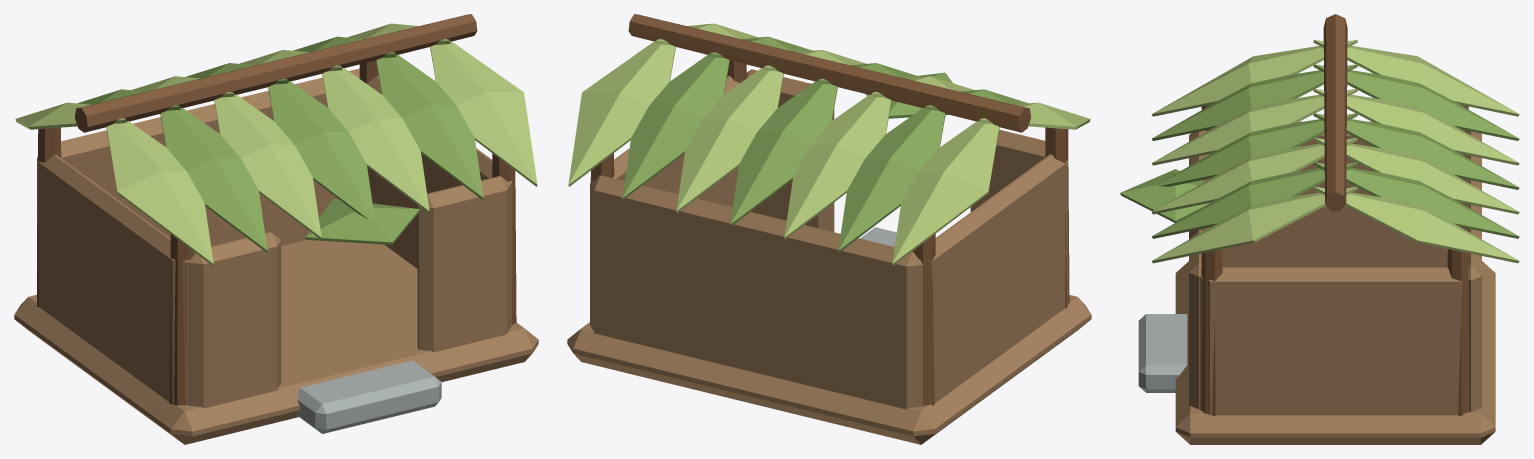
File: CC_Dormitory.fbx
3 views of the same model, side by side, from view 1: azimuth 30°, elevation 25°; view 2: azimuth 150°, elevation 25°; view 3: azimuth 270°, elevation 25° (orthographic). The views are drawn at different scales.
Parts seen in each view (by area): view 1: Raised floor, Side wall, Front wall.001, Front wall, Roof ridge, Thatched leaf, Thatched leaf.006, Back wall, Thatched leaf.005, Thatched leaf.004, Thatched leaf.002, Thatched leaf.001 (+11 smaller); view 2: Back wall, Side wall, Raised floor, Roof ridge, Thatched leaf.007, Thatched leaf.013, Thatched leaf.012, Thatched leaf.011, Thatched leaf.010, Thatched leaf.009, Thatched leaf.008, Front wall (+9 smaller); view 3: Side wall.001, Raised floor, Side wall, Roof ridge, Thatched leaf.013, Thatched leaf.006, Thatched leaf.007, Thatched leaf, Doorstep, Thatched leaf.012, Thatched leaf.005, Thatched leaf.011 (+12 smaller).
Boxes of the visible parts, x1=… form: Raised floor: x1=14, y1=240, x2=538, y2=444; Side wall: x1=37, y1=154, x2=189, y2=405; Front wall.001: x1=417, y1=176, x2=510, y2=352; Front wall: x1=188, y1=232, x2=281, y2=408; Roof ridge: x1=74, y1=14, x2=477, y2=132; Thatched leaf: x1=106, y1=121, x2=213, y2=265; Thatched leaf.006: x1=430, y1=41, x2=537, y2=186; Back wall: x1=37, y1=68, x2=359, y2=267; Thatched leaf.005: x1=376, y1=54, x2=483, y2=199; Thatched leaf.004: x1=322, y1=68, x2=429, y2=213; Thatched leaf.002: x1=214, y1=94, x2=321, y2=239; Thatched leaf.001: x1=160, y1=108, x2=267, y2=252; Back wall: x1=590, y1=175, x2=922, y2=409; Side wall: x1=919, y1=154, x2=1068, y2=403; Raised floor: x1=567, y1=295, x2=1091, y2=444; Roof ridge: x1=628, y1=14, x2=1031, y2=132; Thatched leaf.007: x1=892, y1=121, x2=999, y2=265; Thatched leaf.013: x1=568, y1=41, x2=675, y2=186; Thatched leaf.012: x1=622, y1=54, x2=729, y2=199; Thatched leaf.011: x1=676, y1=68, x2=783, y2=213; Thatched leaf.010: x1=730, y1=81, x2=837, y2=226; Thatched leaf.009: x1=784, y1=94, x2=891, y2=239; Thatched leaf.008: x1=838, y1=108, x2=945, y2=252; Front wall: x1=970, y1=129, x2=1045, y2=211; Side wall.001: x1=1200, y1=267, x2=1469, y2=415; Raised floor: x1=1175, y1=261, x2=1495, y2=444; Side wall: x1=1222, y1=121, x2=1447, y2=267; Roof ridge: x1=1323, y1=14, x2=1347, y2=210; Thatched leaf.013: x1=1313, y1=186, x2=1519, y2=263; Thatched leaf.006: x1=1151, y1=186, x2=1357, y2=263; Thatched leaf.007: x1=1313, y1=40, x2=1519, y2=116; Thatched leaf: x1=1151, y1=40, x2=1357, y2=116; Doorstep: x1=1138, y1=314, x2=1187, y2=392; Thatched leaf.012: x1=1313, y1=162, x2=1519, y2=238; Thatched leaf.005: x1=1151, y1=162, x2=1357, y2=238; Thatched leaf.011: x1=1313, y1=137, x2=1519, y2=214.
Size of the model in its own units: 3.54 by 2.38 by 3.25.
